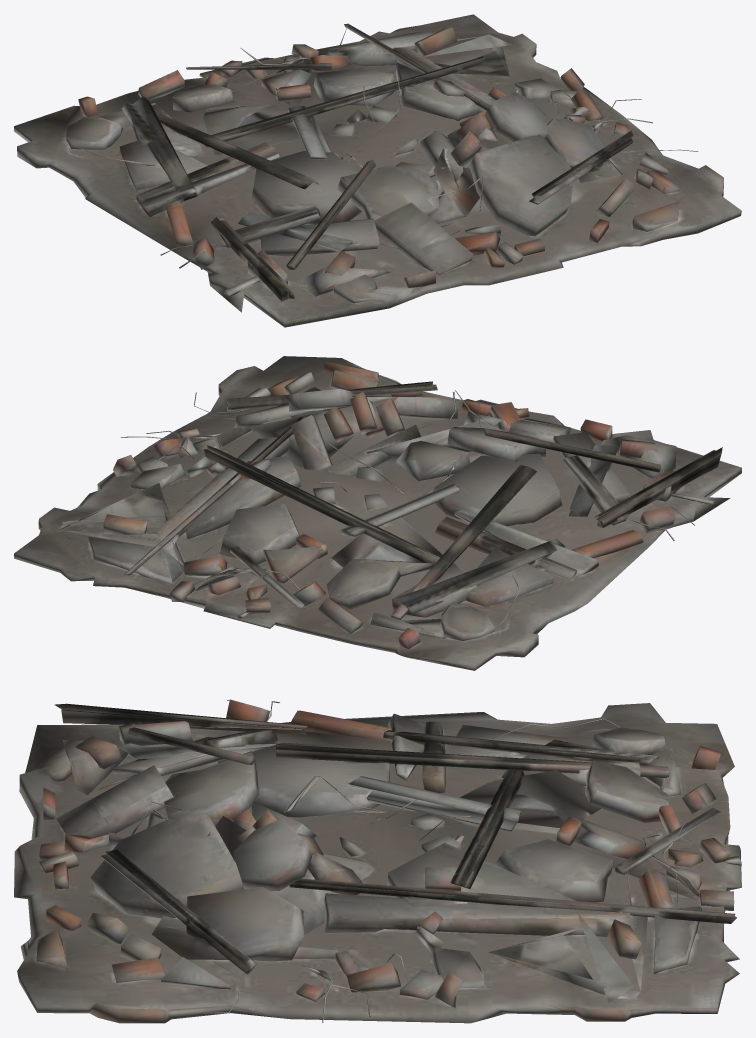
Rendered from rubble_pile.glb.
3 renders of one model, top to bottom at view 1: azimuth 30°, elevation 25°; view 2: azimuth 150°, elevation 25°; view 3: azimuth 270°, elevation 25°, orthographic. The views are drawn at different scales.
Parts seen in each view (by area): view 1: hull; view 2: hull; view 3: hull.
Part boxes in pixels (bbox=[...]): hull: bbox=[14, 14, 741, 327]; hull: bbox=[14, 356, 741, 670]; hull: bbox=[14, 699, 741, 1023].
Size of the model in its own units: 10 by 1.52 by 9.63.
1 material, 1 textured.
